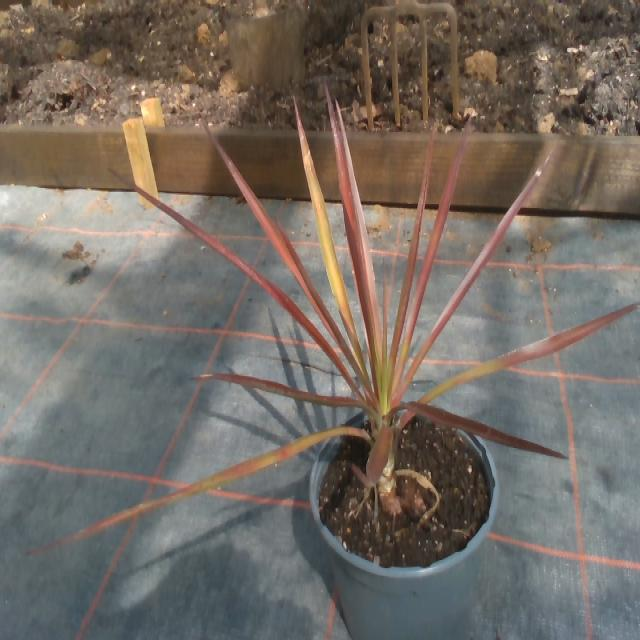Yucca-aloifolia: (128, 181, 363, 399), (206, 129, 376, 404), (30, 425, 370, 552), (394, 152, 552, 399), (418, 304, 639, 401), (296, 105, 368, 381), (397, 125, 468, 381), (325, 85, 381, 389), (391, 132, 434, 373), (340, 112, 381, 357), (401, 401, 565, 457), (193, 376, 373, 412), (325, 347, 358, 393), (366, 427, 391, 483)
